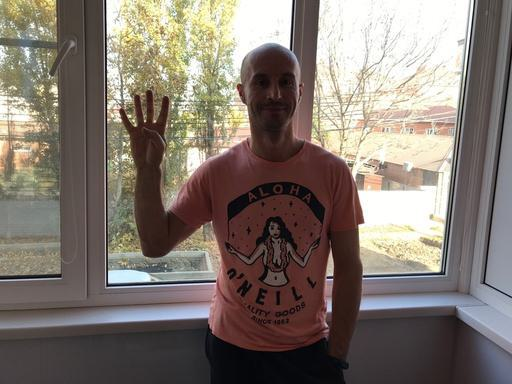four: (117, 88, 171, 170)
